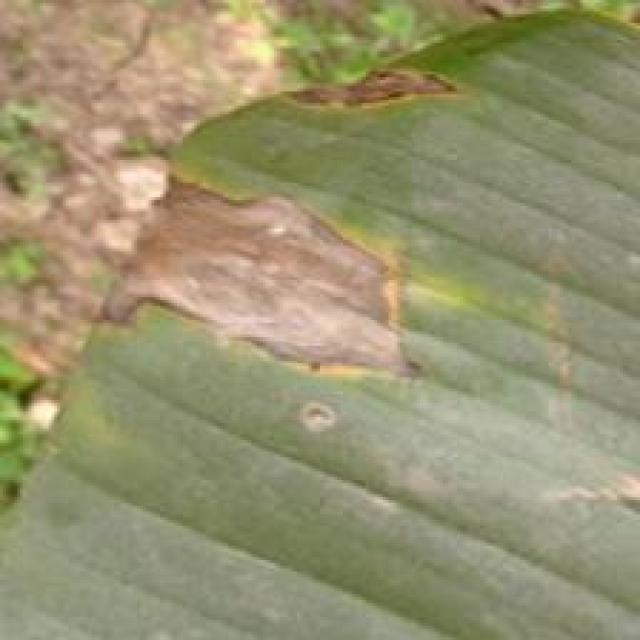Bacterial_spot: (92, 162, 446, 406), (256, 57, 484, 128), (521, 230, 583, 449), (516, 461, 638, 520), (293, 387, 354, 462)
